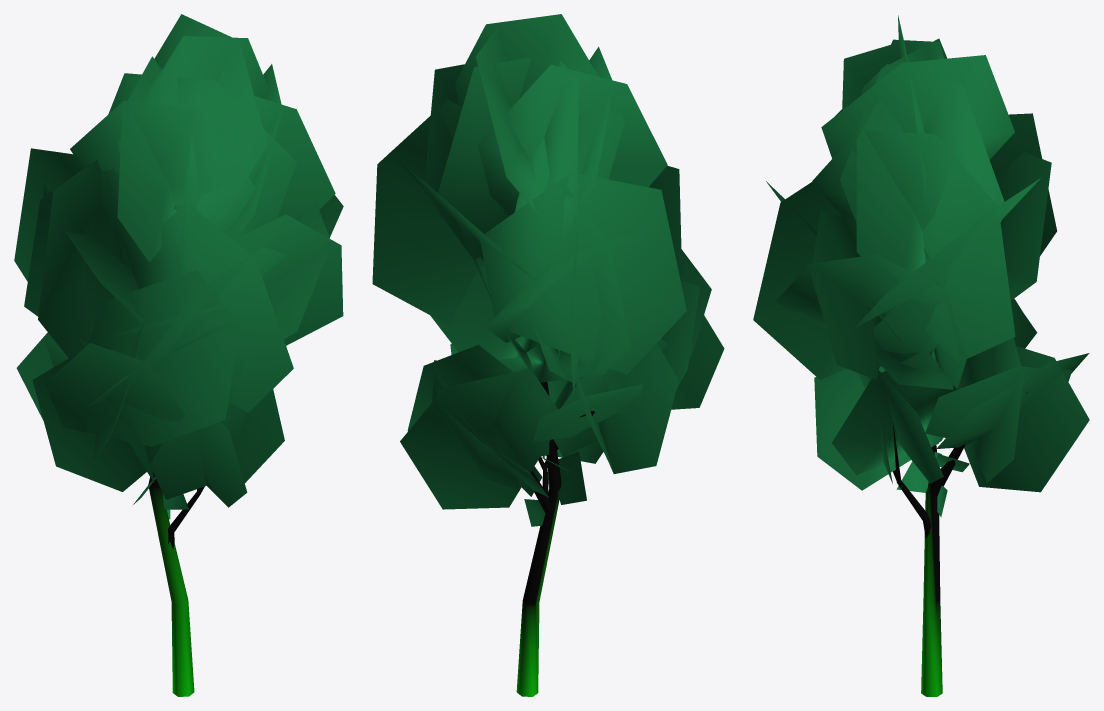
The model's file is SM_OakSapling2.fbx.
3 views of the same model, side by side, from view 1: azimuth 30°, elevation 25°; view 2: azimuth 150°, elevation 25°; view 3: azimuth 270°, elevation 25° (orthographic).
Visible parts, largest first — view 1: SM_OakSapling2_LOD0; view 2: SM_OakSapling2_LOD0; view 3: SM_OakSapling2_LOD0.
Boxes of the visible parts, x1,y1,x2,y2 form: SM_OakSapling2_LOD0: (14, 14, 343, 696); SM_OakSapling2_LOD0: (372, 14, 724, 696); SM_OakSapling2_LOD0: (753, 15, 1089, 696).
Bounding box in the file's own units: 278 × 616 × 280.
